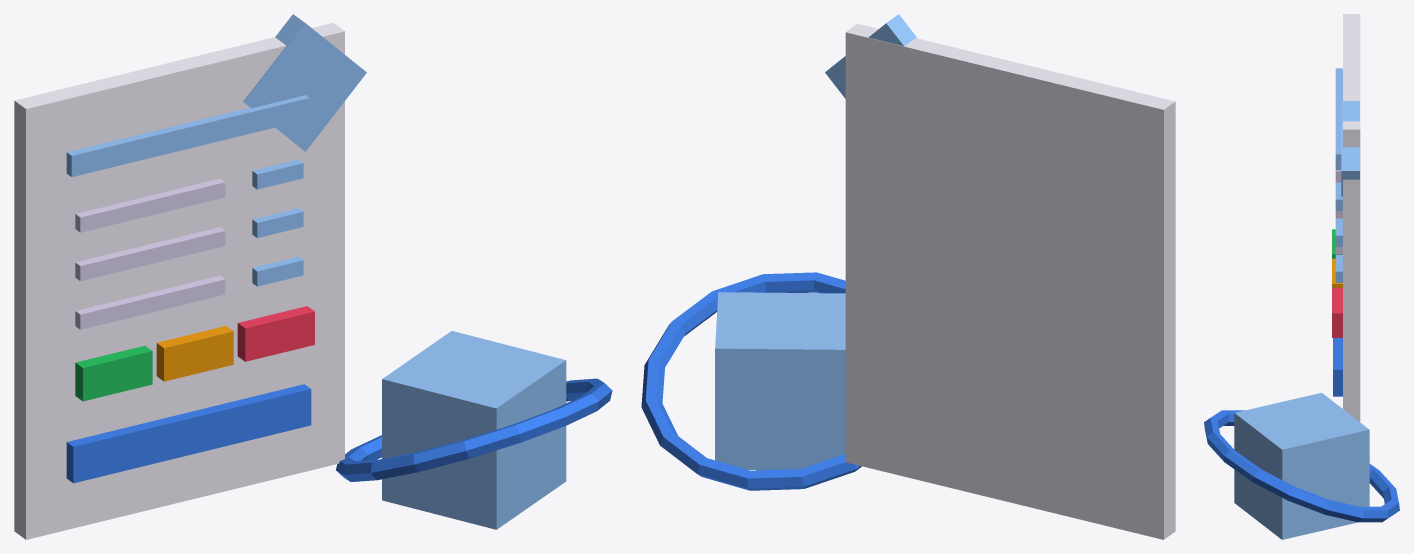
The model's file is invoice.glb.
3 renders of one model, left to right at view 1: azimuth 30°, elevation 25°; view 2: azimuth 150°, elevation 25°; view 3: azimuth 270°, elevation 25°, orthographic. The views are drawn at different scales.
Visible parts, largest first — view 1: invoice; view 2: invoice; view 3: invoice.
Boxes of the visible parts, x1=… form: invoice: x1=14, y1=14, x2=612, y2=539; invoice: x1=641, y1=14, x2=1175, y2=539; invoice: x1=1204, y1=14, x2=1399, y2=539.
Size of the model in its own units: 1.87 by 1.59 by 0.7877.
